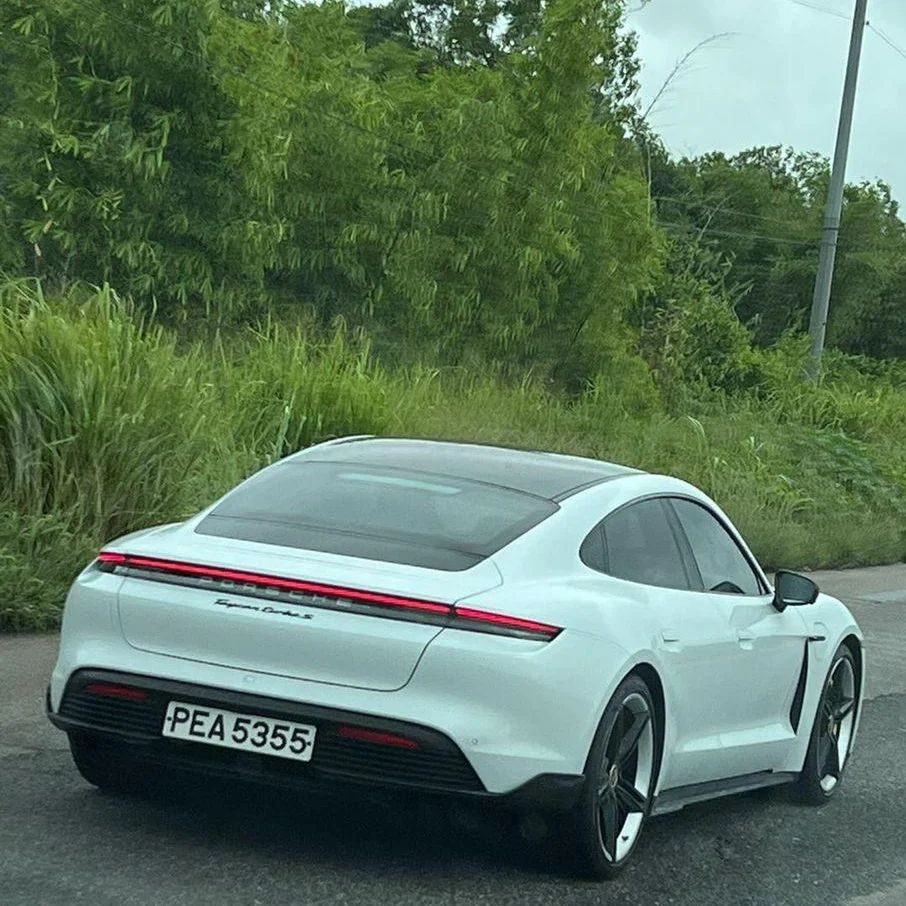License-Plate: (169, 699, 318, 737)
